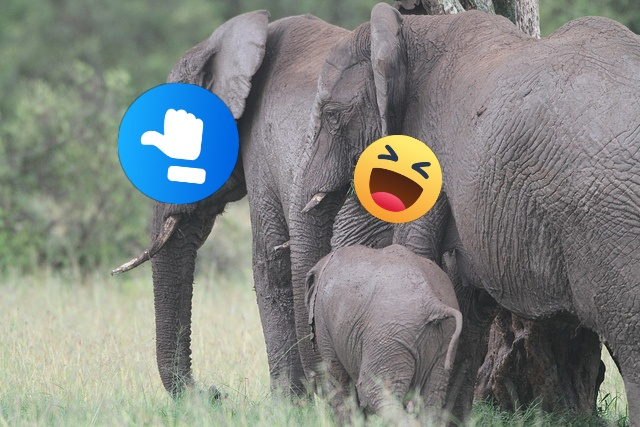haha: (354, 135, 442, 223)
like: (118, 83, 239, 204)
